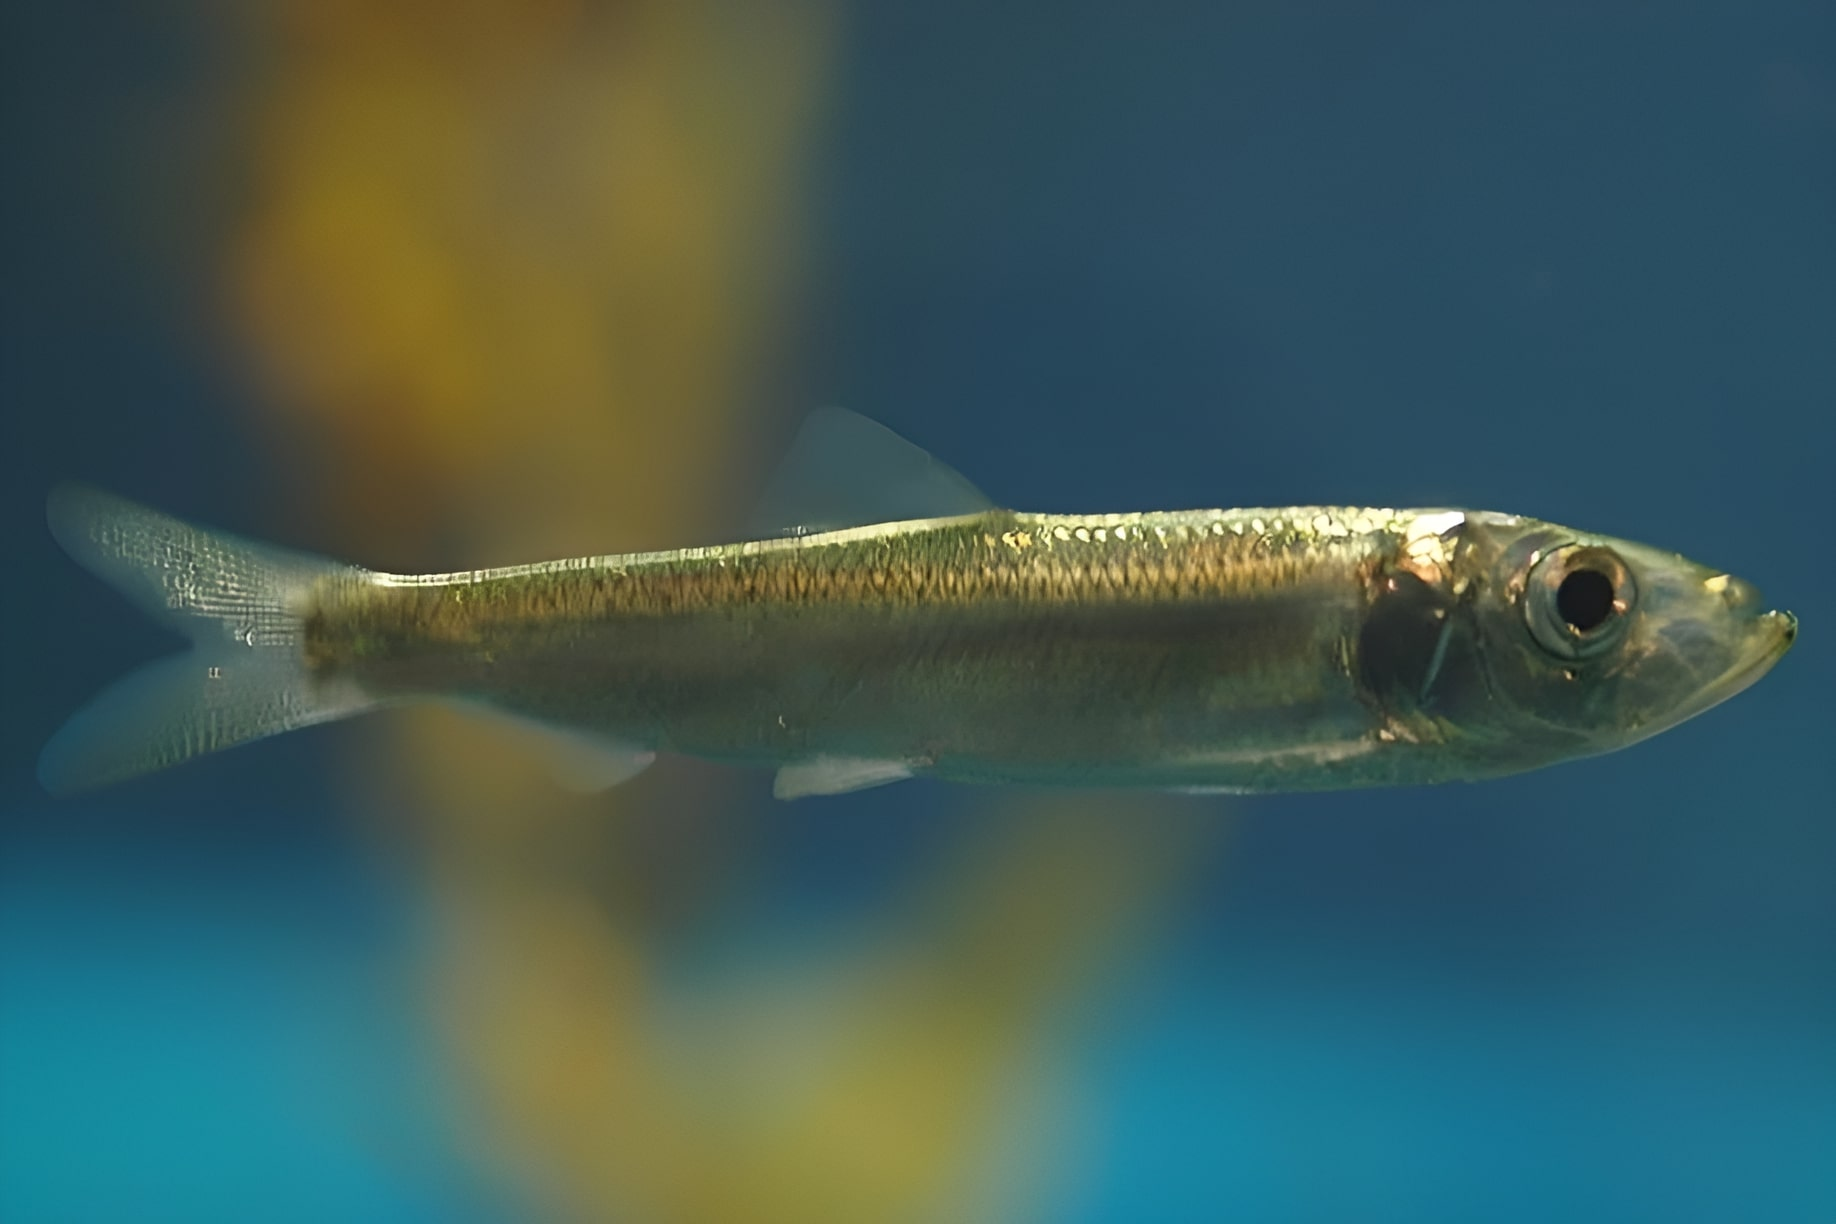Pecific herring: (20, 441, 1820, 852)
